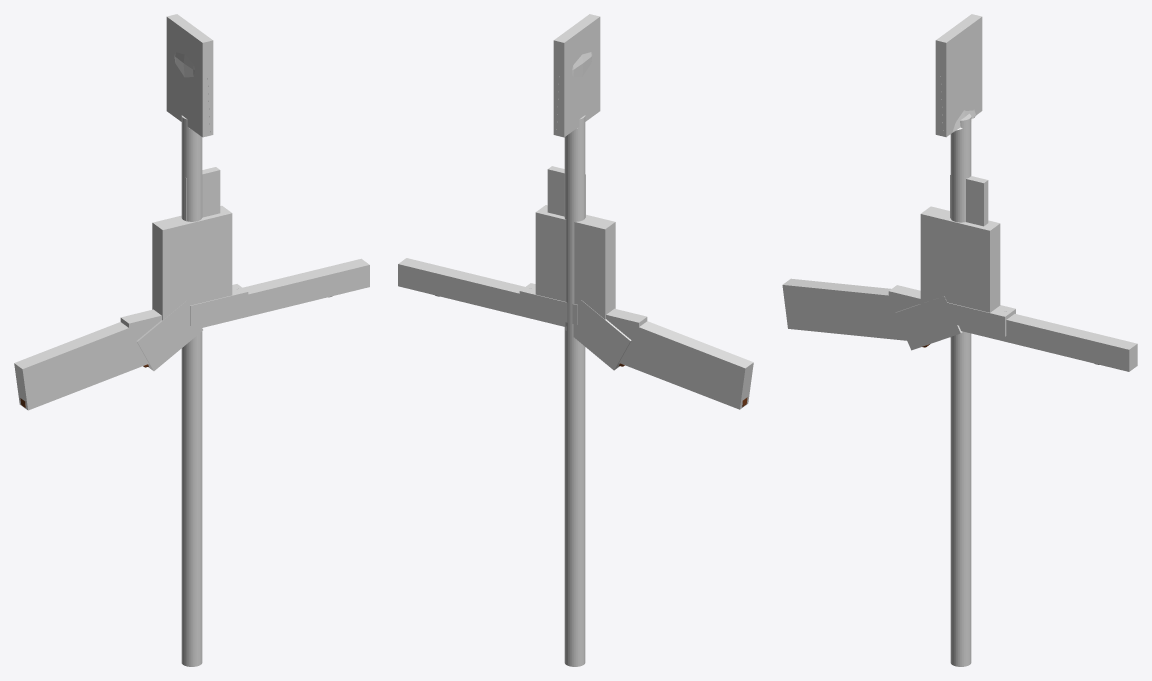
3 views of the same model, side by side, from view 1: azimuth 30°, elevation 25°; view 2: azimuth 150°, elevation 25°; view 3: azimuth 330°, elevation 25° (orthographic).
Parts seen in each view (by area): view 1: COLL_CYLINDER_shovel_handle, COLL_BOX_book, COLL_BOX_shotgun_handle, COLL_BOX_shotgun_barrel, COLL_BOX_shovel_spade, COLL_BOX_revolver_handle, COLL_BOX_revolver_barrel, COLL_BOX_blade; view 2: COLL_CYLINDER_shovel_handle, COLL_BOX_shotgun_handle, COLL_BOX_book, COLL_BOX_shovel_spade, COLL_BOX_shotgun_barrel, COLL_BOX_revolver_handle, COLL_BOX_revolver_barrel, COLL_BOX_blade; view 3: COLL_CYLINDER_shovel_handle, COLL_BOX_book, COLL_BOX_shotgun_handle, COLL_BOX_shotgun_barrel, COLL_BOX_shovel_spade, COLL_BOX_revolver_handle, COLL_BOX_revolver_barrel, COLL_BOX_blade.
Part boxes in pixels (box(x1,y1,x2,y2)): COLL_CYLINDER_shovel_handle: box(181, 115, 202, 666); COLL_BOX_book: box(152, 205, 232, 320); COLL_BOX_shotgun_handle: box(14, 319, 153, 410); COLL_BOX_shotgun_barrel: box(120, 258, 369, 345); COLL_BOX_shovel_spade: box(166, 14, 213, 137); COLL_BOX_revolver_handle: box(136, 301, 202, 370); COLL_BOX_revolver_barrel: box(190, 284, 248, 325); COLL_BOX_blade: box(185, 167, 220, 221); COLL_CYLINDER_shovel_handle: box(564, 115, 585, 666); COLL_BOX_shotgun_handle: box(613, 318, 753, 409); COLL_BOX_book: box(535, 205, 615, 319); COLL_BOX_shovel_spade: box(553, 14, 600, 137); COLL_BOX_shotgun_barrel: box(398, 258, 647, 344); COLL_BOX_revolver_handle: box(564, 300, 631, 370); COLL_BOX_revolver_barrel: box(519, 283, 577, 324); COLL_BOX_blade: box(547, 166, 585, 217); COLL_CYLINDER_shovel_handle: box(950, 113, 971, 666); COLL_BOX_book: box(920, 206, 1000, 312); COLL_BOX_shotgun_handle: box(782, 278, 906, 340); COLL_BOX_shotgun_barrel: box(888, 285, 1137, 371); COLL_BOX_shovel_spade: box(935, 14, 982, 137); COLL_BOX_revolver_handle: box(895, 296, 962, 350); COLL_BOX_revolver_barrel: box(947, 302, 1015, 336); COLL_BOX_blade: box(950, 175, 988, 226).
Size of the model in its own units: 0.9095 by 1.59 by 0.1636.
4 materials, 4 textured.
